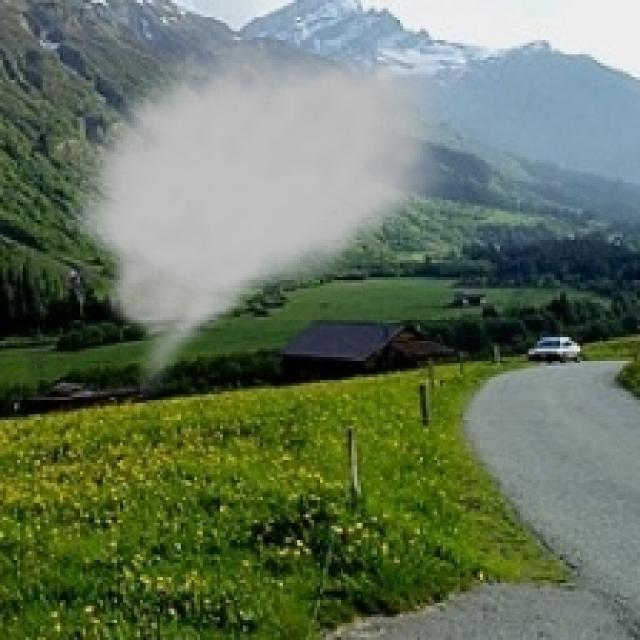smoke: (54, 34, 469, 403)
